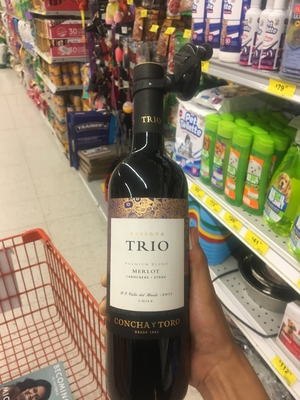trio merlot: (98, 70, 212, 400)
